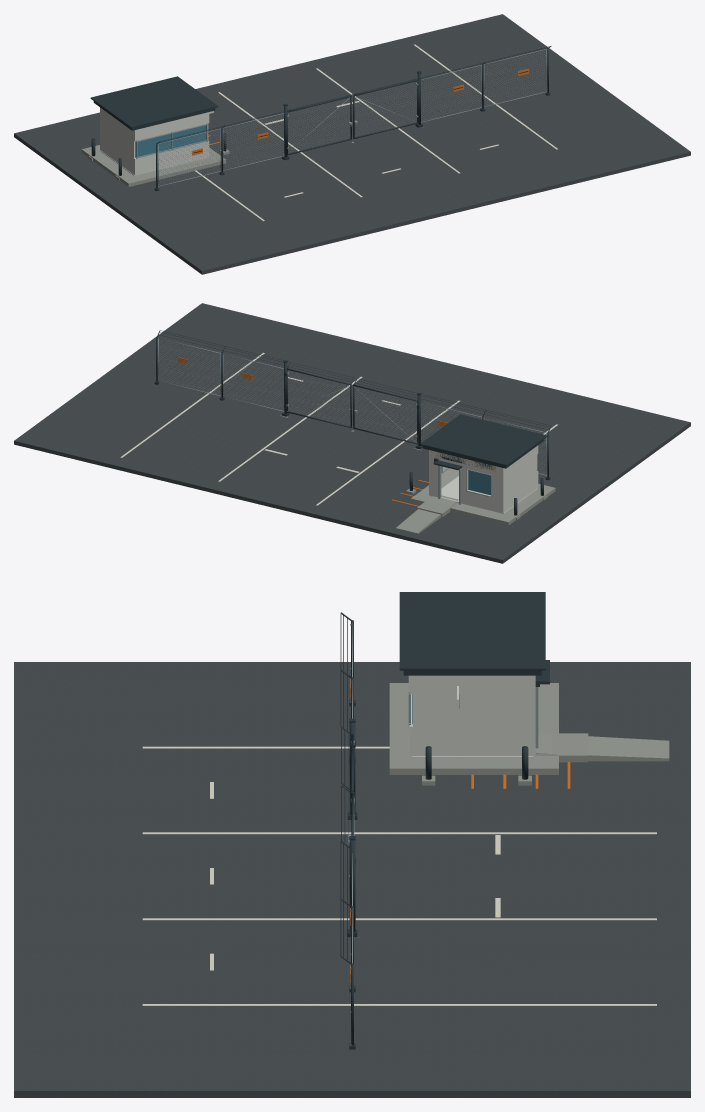
3 views of the same model, one above another, from view 1: azimuth 30°, elevation 25°; view 2: azimuth 150°, elevation 25°; view 3: azimuth 270°, elevation 25° (orthographic). The views are drawn at different scales.
Parts seen in each view (by area): view 1: AREA_VIS_Paved_Inspection_Area, AREA_BOOTH_VIS_Roof_Slab_And_Coping, AREA_BOOTH_VIS_Booth_Walls, AREA_VIS_Booth_Island_Curb, AREA_VIS_Lane_Markings, AREA_BOOTH_VIS_Separate_Glass_Panes, FENCE_03_VIS_Woven_ChainLink, FENCE_00_VIS_Woven_ChainLink, GATE_Left_GATE_VIS_Woven_ChainLink, GATE_Right_GATE_VIS_Woven_ChainLink, FENCE_02_VIS_Woven_ChainLink, FENCE_01_VIS_Woven_ChainLink (+3 smaller); view 2: AREA_VIS_Paved_Inspection_Area, AREA_BOOTH_VIS_Roof_Slab_And_Coping, AREA_BOOTH_VIS_Booth_Walls, AREA_VIS_Booth_Island_Curb, AREA_VIS_Lane_Markings, FENCE_03_VIS_Woven_ChainLink, FENCE_02_VIS_Woven_ChainLink, GATE_Left_GATE_VIS_Woven_ChainLink, GATE_Right_GATE_VIS_Woven_ChainLink, AREA_VIS_Guard_Access_Ramp, GATE_Right_VIS_Gate_Perimeter_Frame, GATE_Left_VIS_Gate_Perimeter_Frame (+4 smaller); view 3: AREA_VIS_Paved_Inspection_Area, AREA_BOOTH_VIS_Roof_Slab_And_Coping, AREA_BOOTH_VIS_Booth_Walls, AREA_VIS_Booth_Island_Curb, AREA_VIS_Lane_Markings, AREA_VIS_Guard_Access_Ramp, GATE_VIS_Gate_Pillars.
Boxes of the visible parts, box(x1,y1,x2,y2) form: AREA_VIS_Paved_Inspection_Area: box(14, 14, 690, 274); AREA_BOOTH_VIS_Roof_Slab_And_Coping: box(90, 76, 218, 130); AREA_BOOTH_VIS_Booth_Walls: box(100, 107, 209, 175); AREA_VIS_Booth_Island_Curb: box(81, 145, 226, 186); AREA_VIS_Lane_Markings: box(195, 44, 557, 221); AREA_BOOTH_VIS_Separate_Glass_Panes: box(135, 125, 206, 157); FENCE_03_VIS_Woven_ChainLink: box(484, 50, 545, 105); FENCE_00_VIS_Woven_ChainLink: box(158, 130, 220, 184); GATE_Left_GATE_VIS_Woven_ChainLink: box(288, 99, 349, 152); GATE_Right_GATE_VIS_Woven_ChainLink: box(355, 83, 416, 135); FENCE_02_VIS_Woven_ChainLink: box(421, 67, 480, 120); FENCE_01_VIS_Woven_ChainLink: box(224, 114, 284, 168); AREA_VIS_Paved_Inspection_Area: box(14, 303, 690, 563); AREA_BOOTH_VIS_Roof_Slab_And_Coping: box(420, 414, 547, 470); AREA_BOOTH_VIS_Booth_Walls: box(429, 445, 538, 513); AREA_VIS_Booth_Island_Curb: box(410, 483, 555, 525); AREA_VIS_Lane_Markings: box(120, 352, 557, 505); FENCE_03_VIS_Woven_ChainLink: box(158, 339, 220, 394); FENCE_02_VIS_Woven_ChainLink: box(224, 356, 283, 409); GATE_Left_GATE_VIS_Woven_ChainLink: box(355, 388, 416, 440); GATE_Right_GATE_VIS_Woven_ChainLink: box(288, 371, 349, 424); AREA_VIS_Guard_Access_Ramp: box(396, 495, 458, 533); GATE_Right_VIS_Gate_Perimeter_Frame: box(284, 362, 354, 427); GATE_Left_VIS_Gate_Perimeter_Frame: box(353, 378, 419, 444); AREA_VIS_Paved_Inspection_Area: box(14, 662, 690, 1097); AREA_BOOTH_VIS_Roof_Slab_And_Coping: box(399, 592, 549, 684); AREA_BOOTH_VIS_Booth_Walls: box(409, 675, 535, 755); AREA_VIS_Booth_Island_Curb: box(389, 683, 588, 774); AREA_VIS_Lane_Markings: box(142, 746, 656, 1005); AREA_VIS_Guard_Access_Ramp: box(535, 733, 669, 761); GATE_VIS_Gate_Pillars: box(347, 718, 357, 937).
Bounding box in the file's own units: 30 × 3.54 × 20.
11 materials, 11 textured.
